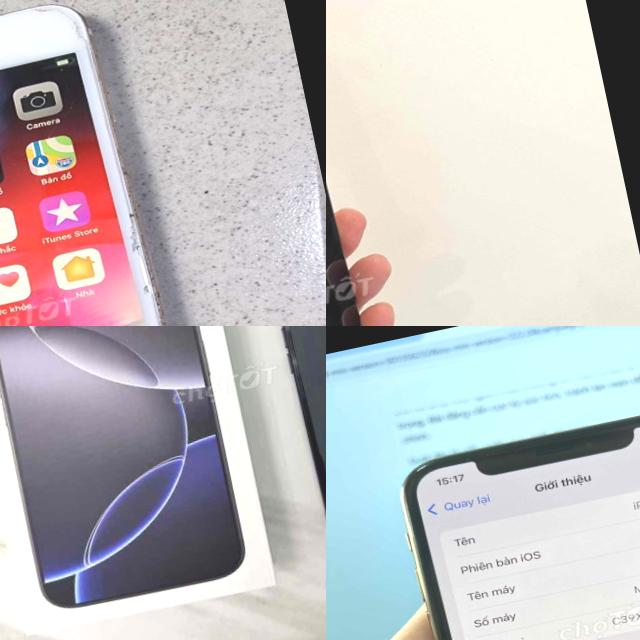gen_6: (0, 6, 164, 326)
gen_x_xs: (385, 395, 640, 640), (326, 0, 408, 326)
